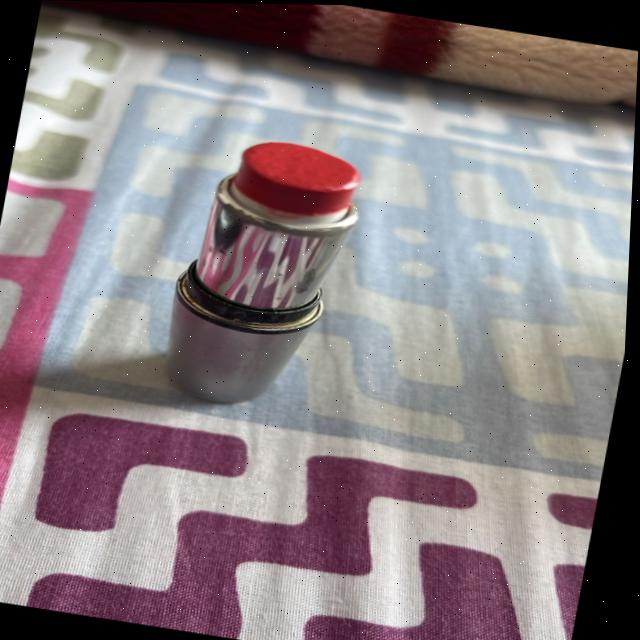lip stick: (141, 112, 389, 451)
